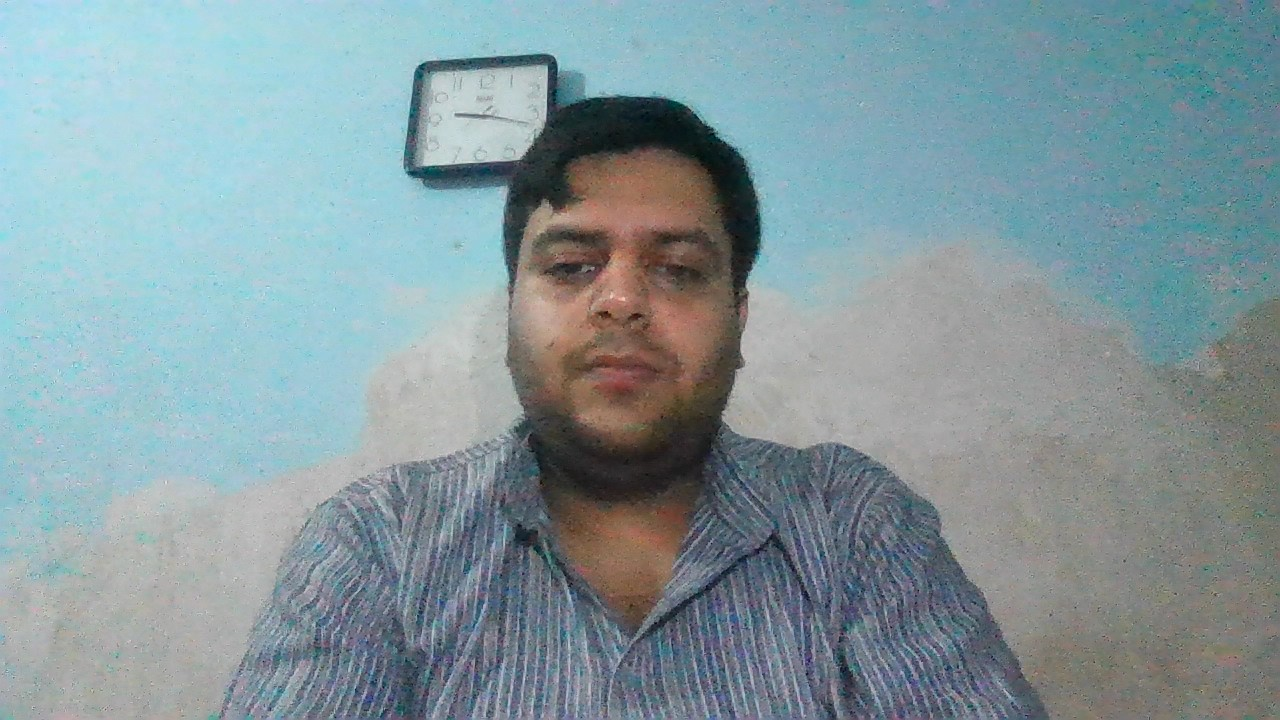No Mask: (510, 293, 739, 476)
